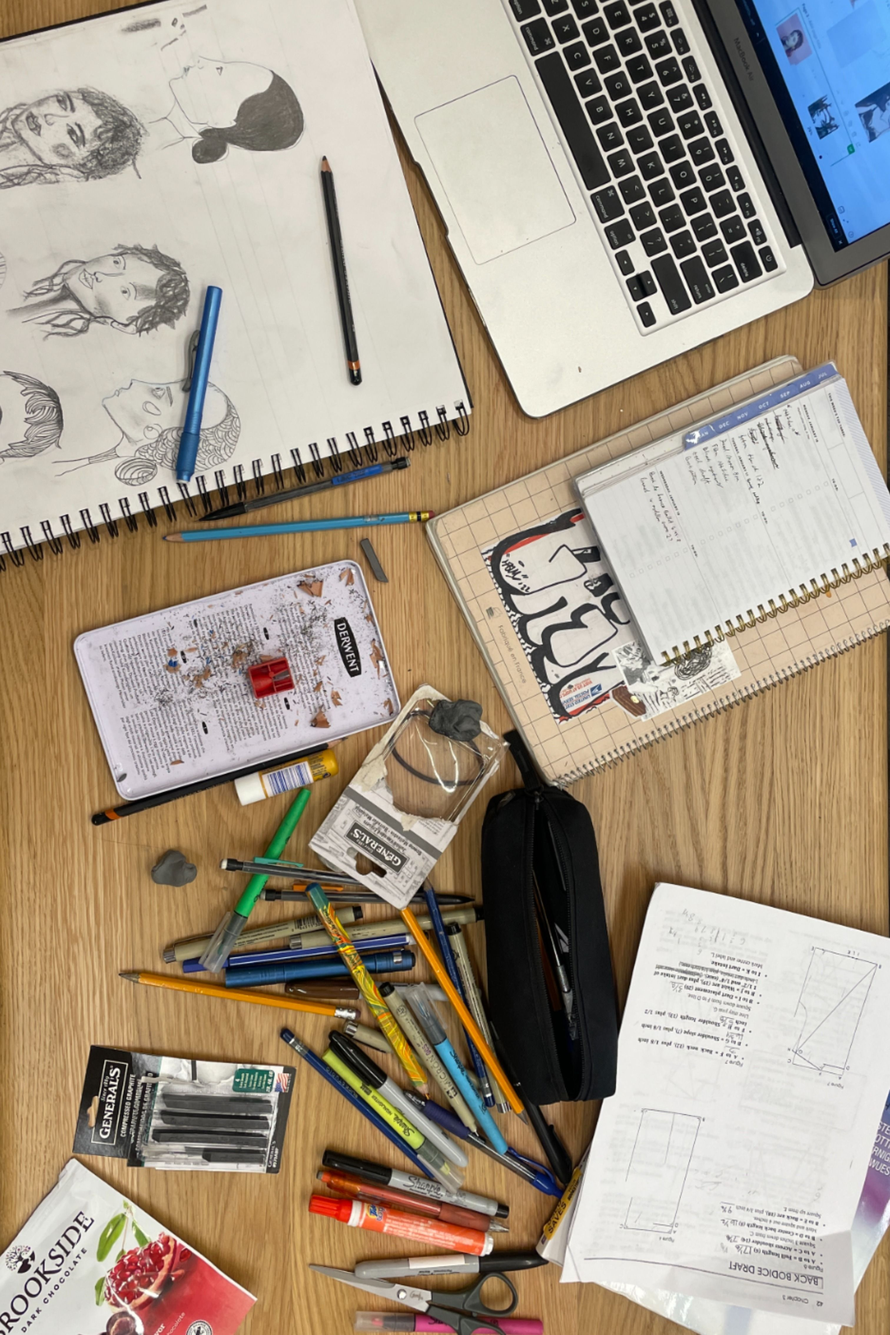not a gesture sign: (191, 313, 775, 1227)
